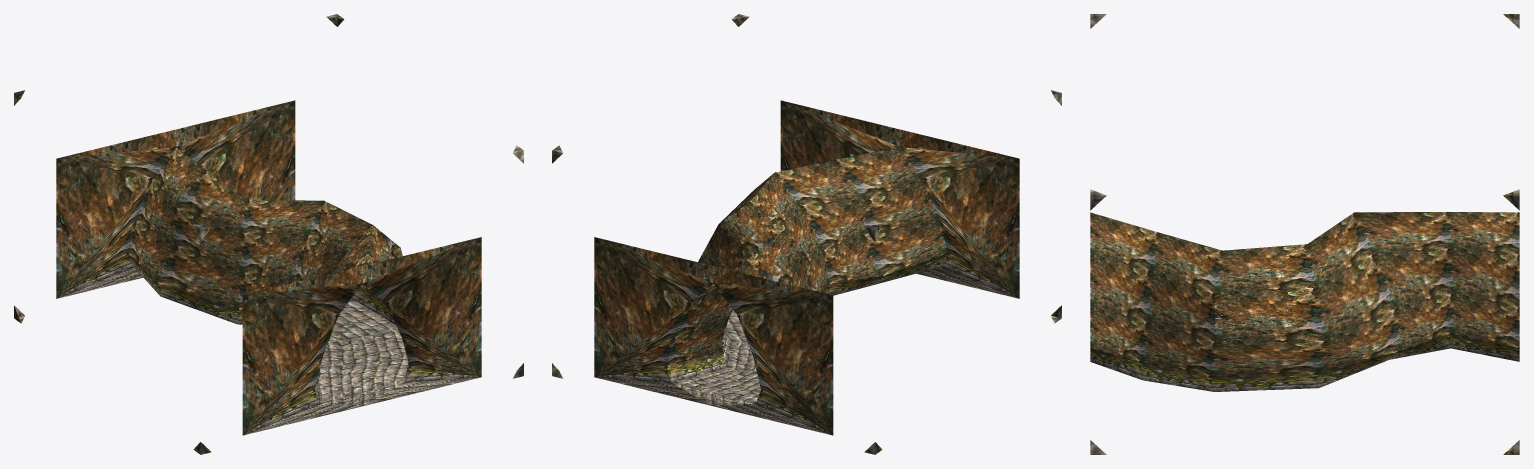
File: lbc_2c.glb
3 views of the same model, side by side, from view 1: azimuth 30°, elevation 25°; view 2: azimuth 150°, elevation 25°; view 3: azimuth 270°, elevation 25° (orthographic). The views are drawn at different scales.
Visible parts, largest first — view 1: lbc_2c; view 2: lbc_2c; view 3: lbc_2c.
Boxes of the visible parts, x1,y1,x2,y2 form: lbc_2c: (14, 14, 523, 454); lbc_2c: (552, 14, 1061, 454); lbc_2c: (1090, 14, 1519, 454).
Bounding box in the file's own units: 15 × 10 × 15.
Materials: 3 (3 with a texture image).
